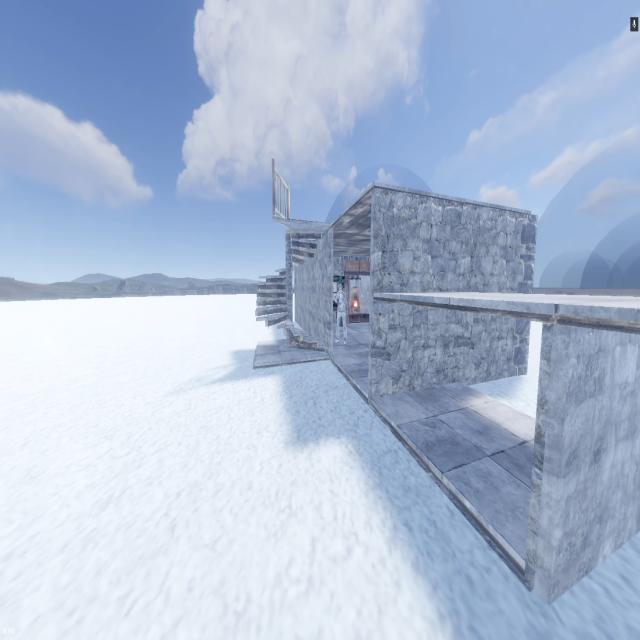Player: (334, 282, 348, 346)
